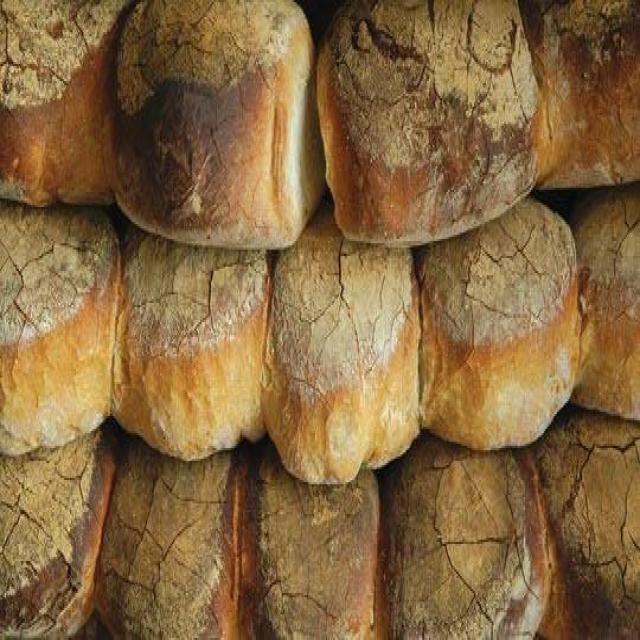Maltese-Bread: (318, 0, 537, 243), (113, 0, 324, 245), (261, 205, 420, 482), (415, 201, 580, 450), (111, 226, 268, 459), (380, 437, 548, 638), (0, 201, 121, 454), (95, 431, 242, 638), (245, 439, 384, 638), (0, 0, 130, 203), (525, 407, 639, 638), (0, 429, 115, 638), (520, 0, 639, 186), (569, 183, 639, 418)
